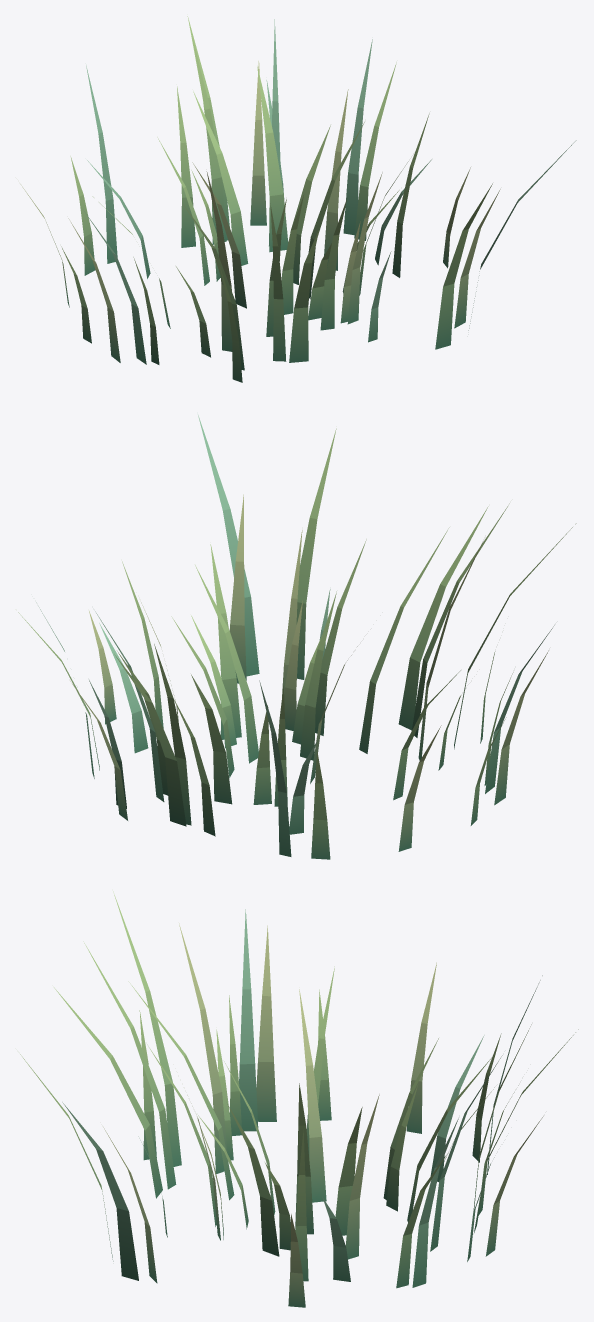
The model's file is SM_GR_Grass.fbx.
The picture shows the model from 3 angles, top to bottom: view 1: azimuth 30°, elevation 25°; view 2: azimuth 150°, elevation 25°; view 3: azimuth 270°, elevation 25°; orthographic projection. The views are drawn at different scales.
Parts seen in each view (by area): view 1: SM_GR_Grass; view 2: SM_GR_Grass; view 3: SM_GR_Grass.
Boxes of the visible parts, left/top/right/bottom form: SM_GR_Grass: left=20, top=16, right=576, bottom=382; SM_GR_Grass: left=18, top=415, right=576, bottom=859; SM_GR_Grass: left=20, top=891, right=578, bottom=1307.
Size of the model in its own units: 103 by 49.34 by 109.
